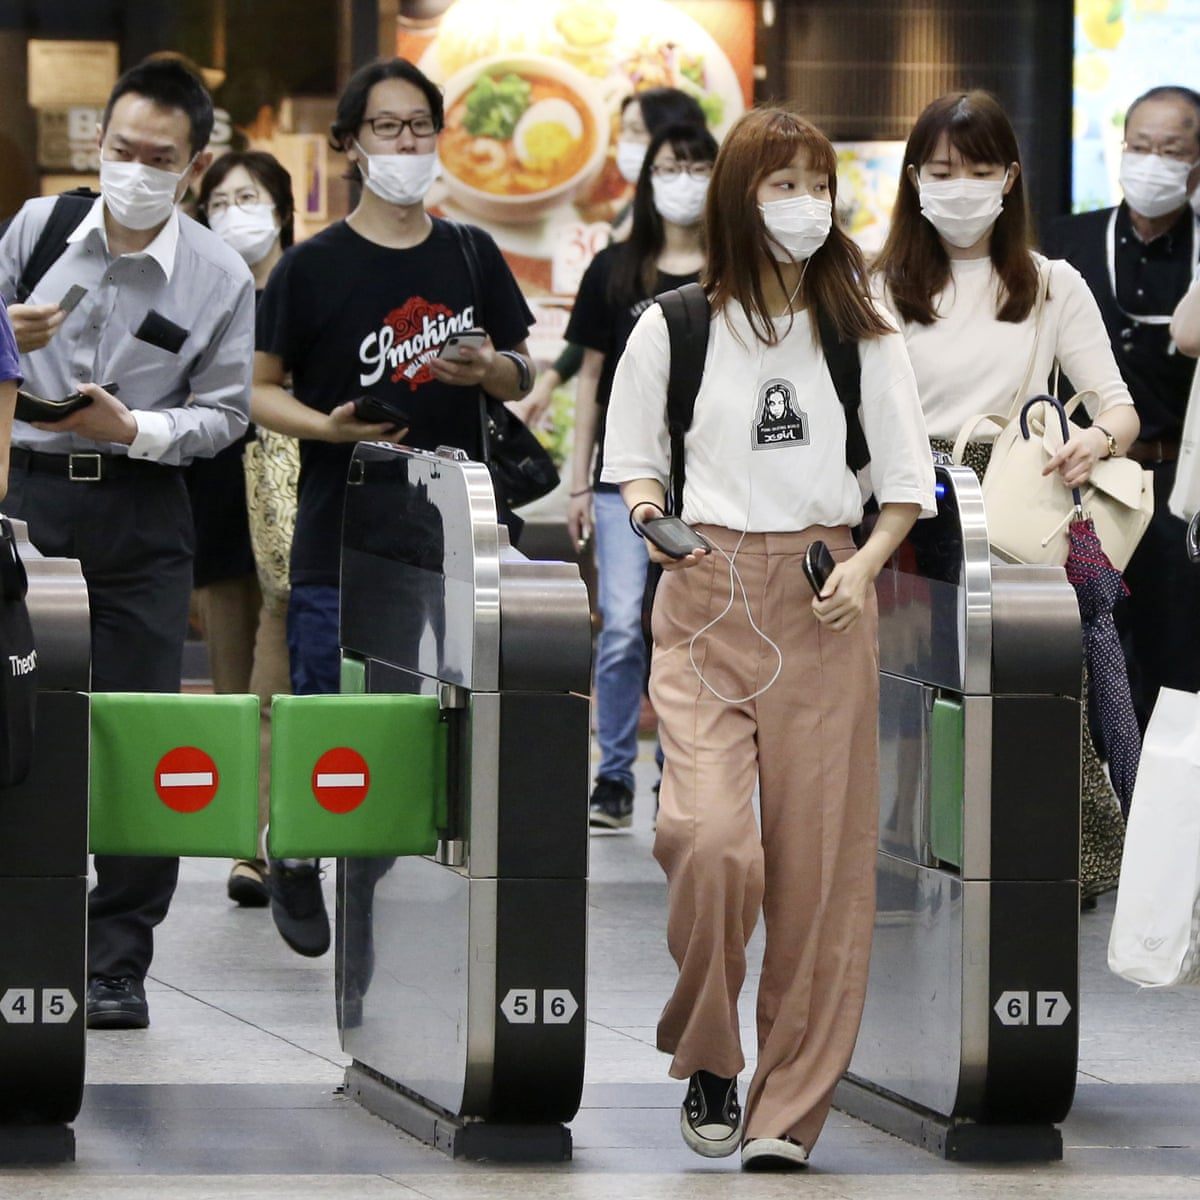with_incorrect_mask: (363, 86, 436, 202)
with_mask: (94, 112, 196, 226), (922, 141, 1006, 244), (759, 157, 833, 259), (1122, 109, 1197, 209), (206, 166, 271, 249), (654, 152, 714, 224)
